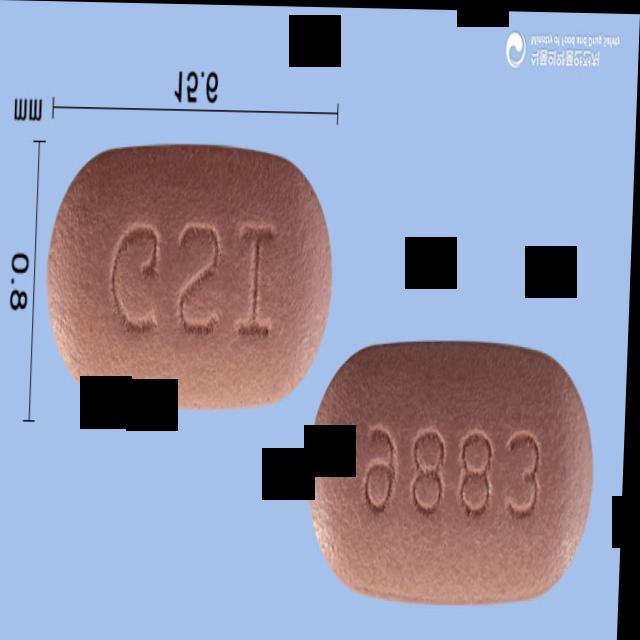Biktarvy: (304, 331, 605, 608), (42, 137, 342, 414)
